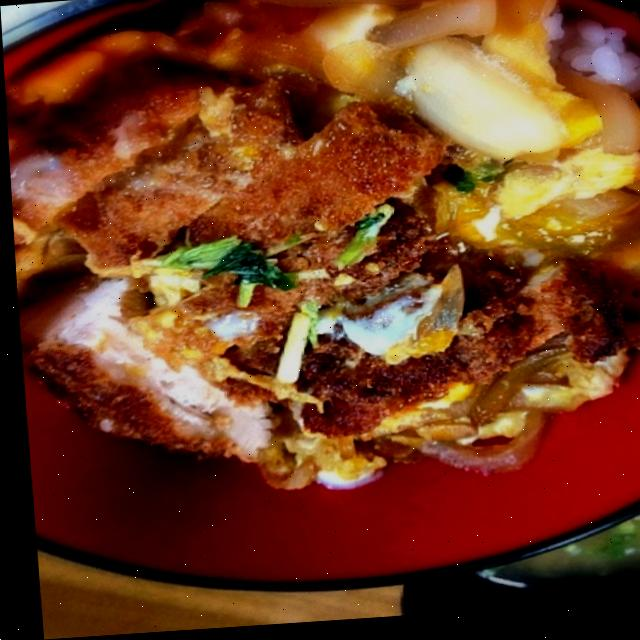鸡肉料理 含炸鸡: (6, 0, 640, 560)
